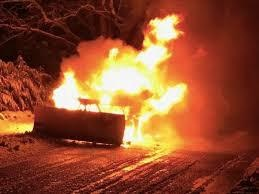fire: (51, 30, 193, 147)
